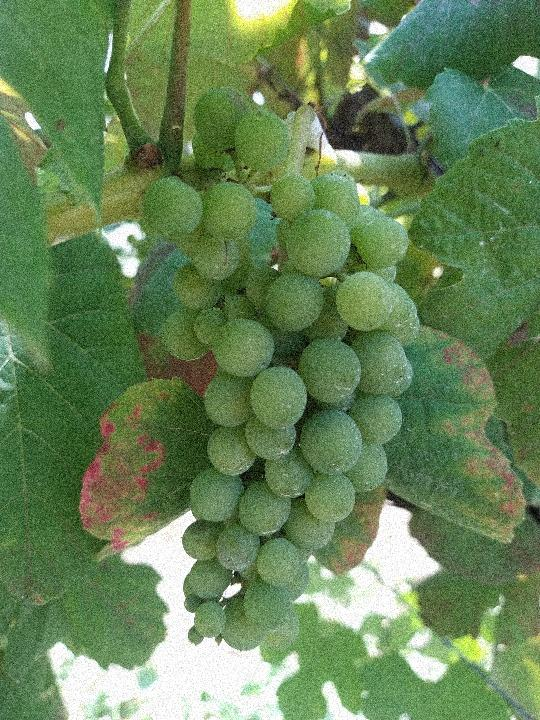grape: (137, 83, 423, 660)
